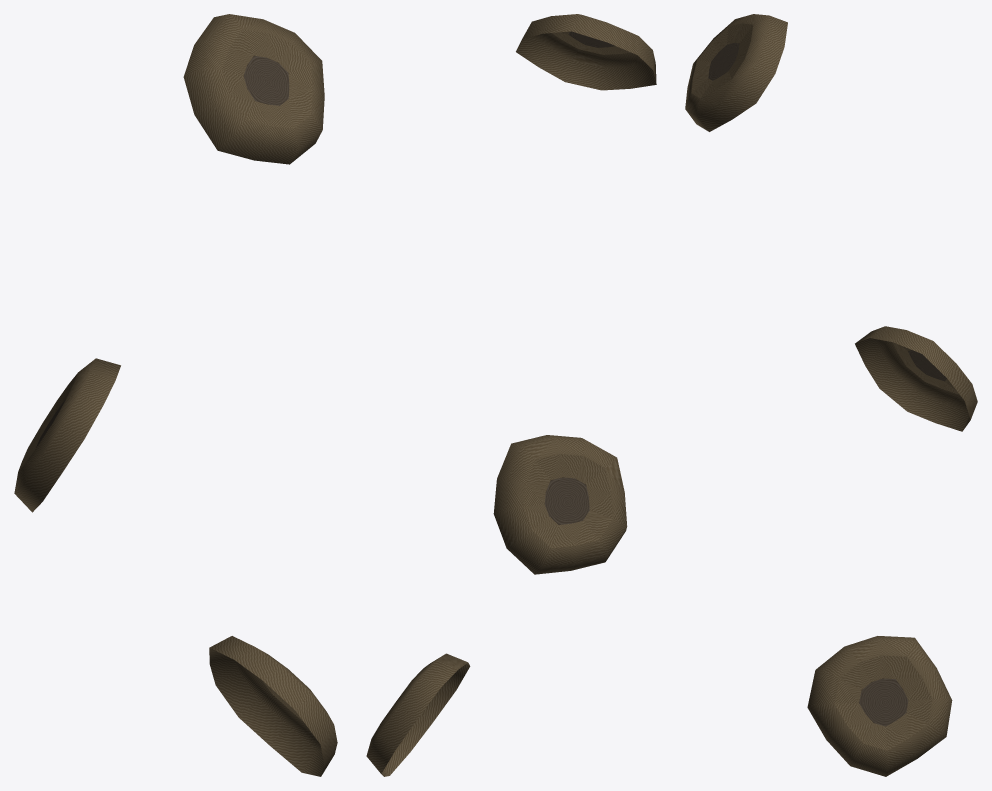
File: Sessile_Oak_Mature_02_LowPruned_Healed_LOD2.fbx
3 renders of one model, left to right at view 1: azimuth 30°, elevation 25°; view 2: azimuth 150°, elevation 25°; view 3: azimuth 270°, elevation 25°, orthographic. The views are drawn at different scales.
Visible parts, largest first — view 1: Sessile_Oak_Mature_02_LowPruned_Healed_LOD2_Scars; view 2: Sessile_Oak_Mature_02_LowPruned_Healed_LOD2_Scars; view 3: Sessile_Oak_Mature_02_LowPruned_Healed_LOD2_Scars.
Boxes of the visible parts, left/top/right/bottom form: Sessile_Oak_Mature_02_LowPruned_Healed_LOD2_Scars: left=14, top=14, right=337, bottom=776; Sessile_Oak_Mature_02_LowPruned_Healed_LOD2_Scars: left=366, top=14, right=656, bottom=776; Sessile_Oak_Mature_02_LowPruned_Healed_LOD2_Scars: left=685, top=14, right=977, bottom=776.
Size of what is drawn, in the model's own units: 58.7 by 164 by 61.69.
Materials: 2 (2 with a texture image).
